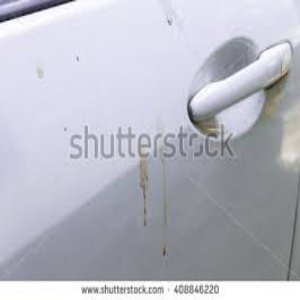door_scratch: (103, 170, 284, 266)
